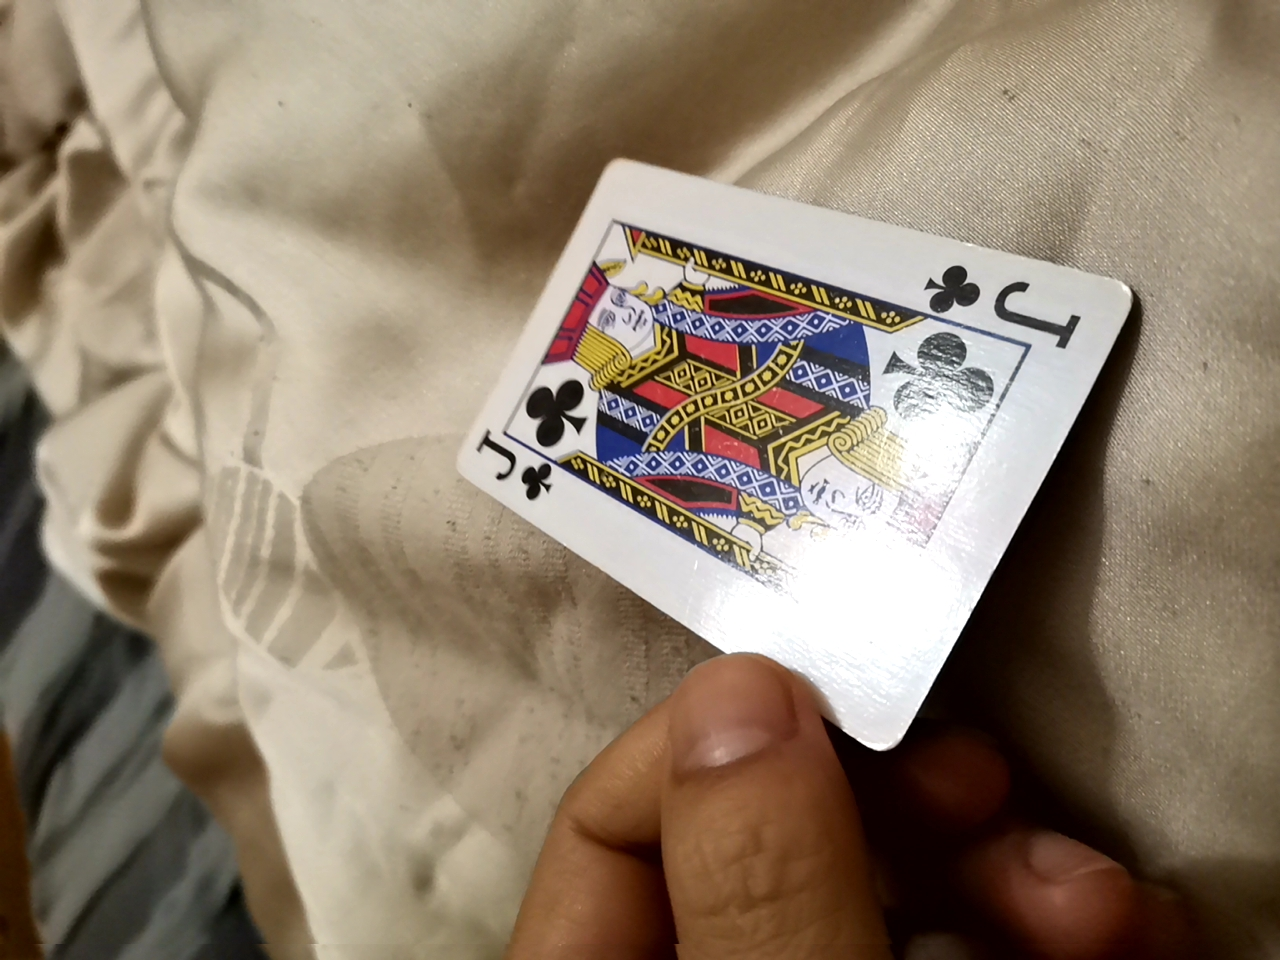mh j: (427, 147, 1116, 742)
